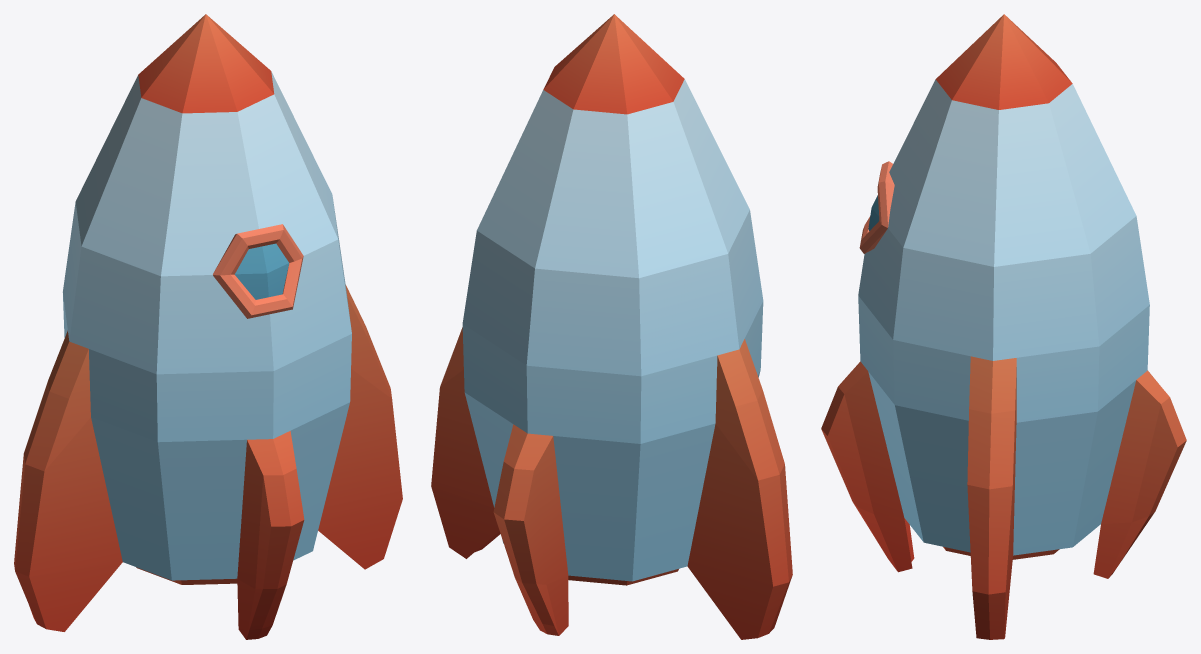
Rendered from rocket.glb.
The picture shows the model from 3 angles, left to right: view 1: azimuth 30°, elevation 25°; view 2: azimuth 150°, elevation 25°; view 3: azimuth 270°, elevation 25°; orthographic projection. The views are drawn at different scales.
Parts seen in each view (by area): view 1: Sphere, Torus.001; view 2: Sphere; view 3: Sphere, Torus.001.
Part boxes in pixels (<box>): Sphere: <box>14,14,402,639</box>; Torus.001: <box>213,224,303,318</box>; Sphere: <box>431,14,792,639</box>; Sphere: <box>821,14,1186,639</box>; Torus.001: <box>859,161,894,253</box>.
Bounding box in the file's own units: 2.16 × 3.25 × 1.94.
Materials: 2 (2 with a texture image).
